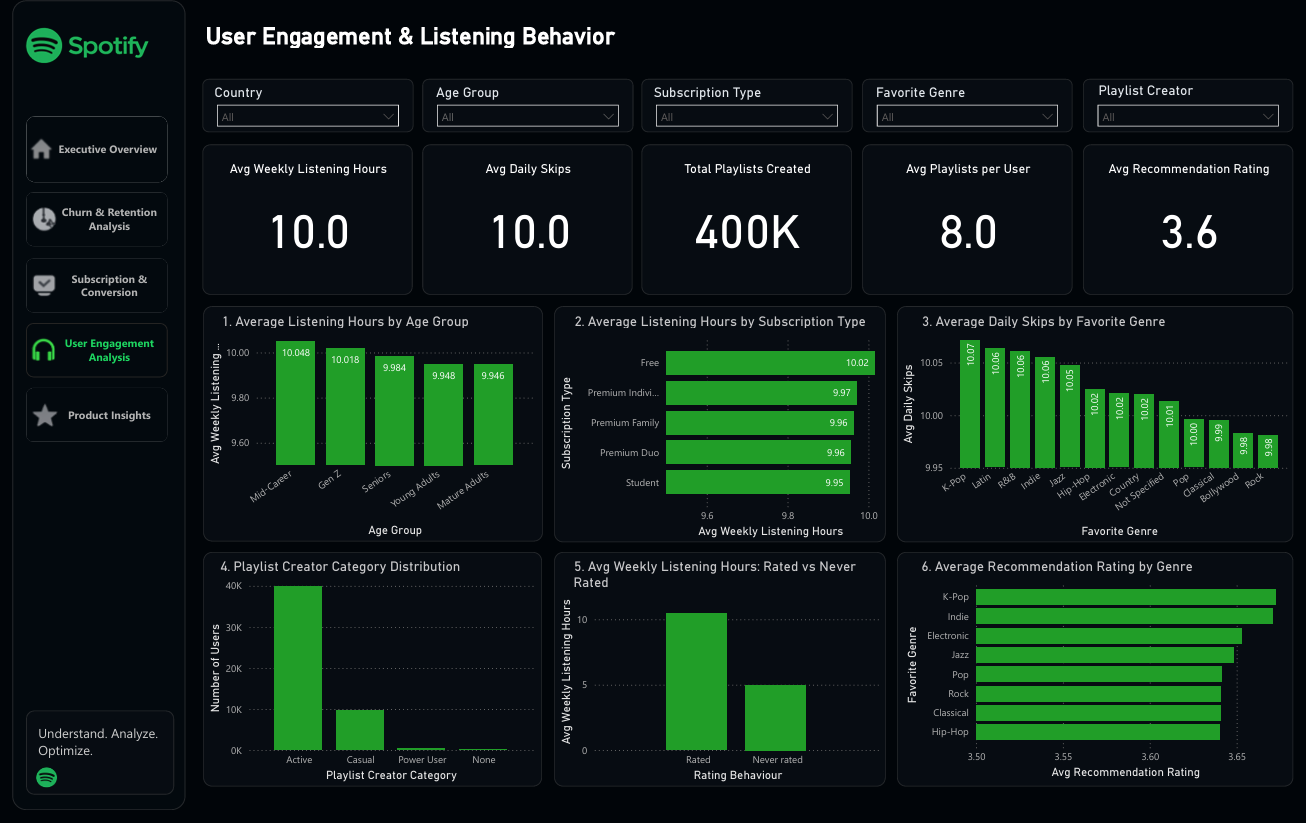

Layout of this report page (visuals, bound fields, positions):
{"tool":"powerbi","page":{"name":"User Engagement Analysis","canvas":[1620,1024],"ordinal":3},"visuals":[{"type":"card","title":"Avg Weekly Listening Hours","fields":{"Values":["Data.Avg Weekly Listening Hours"]},"box":[250.8,178.5,260,185.4],"z":0},{"type":"card","title":"Avg Daily Skips","fields":{"Values":["Avg(Data.avg_skips_per_day)"]},"box":[523.1,178.5,260,185.4],"z":1000},{"type":"card","title":"Total Playlists Created","fields":{"Values":["Sum(Data.playlists_created)"]},"box":[793.8,178.5,260,185.4],"z":2000},{"type":"card","title":"Avg Playlists per User","fields":{"Values":["Data.Avg Playlists per User"]},"box":[1066.9,178.5,260,185.4],"z":3000},{"type":"card","title":"Avg Recommendation Rating","fields":{"Values":["Avg(Data.music_suggestion_rating_1_to_5)"]},"box":[1340,178.5,260,185.4],"z":4000},{"type":"slicer","title":" ","fields":{"Values":["Data.Playlist Creator Category"]},"box":[1340,96.5,260,66.1],"z":5000},{"type":"clusteredColumnChart","title":" ","fields":{"Category":["Data.Age Group"],"Y":["Data.Avg Weekly Listening Hours"]},"box":[251.7,377.5,420,291.7],"z":6000},{"type":"clusteredColumnChart","title":" ","fields":{"Category":["Data.Playlist Creator Category"],"Y":["Data.Total Users"]},"box":[251.8,681.8,419.4,290.6],"z":7000},{"type":"clusteredBarChart","title":" ","fields":{"Y":["Data.Avg Weekly Listening Hours"],"Category":["Data.subscription_type"]},"box":[686,378,410,292],"z":8000},{"type":"slicer","title":" ","fields":{"Values":["Data.country"]},"box":[250.9,96.7,260.9,66.1],"z":9000},{"type":"slicer","title":" ","fields":{"Values":["Data.Age Group"]},"box":[523,96.7,260.9,66.1],"z":10000},{"type":"slicer","title":" ","fields":{"Values":["Data.subscription_type"]},"box":[793.9,96.7,260.9,66.1],"z":11000},{"type":"slicer","title":" ","fields":{"Values":["Data.favorite_genre"]},"box":[1067,96.7,260,66.1],"z":12000},{"type":"clusteredColumnChart","title":" ","fields":{"Y":["Avg(Data.avg_skips_per_day)"],"Category":["Data.favorite_genre"]},"box":[1110,378,490,292],"z":13000},{"type":"clusteredColumnChart","title":" ","fields":{"Category":["Data.Rating Given"],"Y":["Data.Avg Weekly Listening Hours"]},"box":[686,682,410,290],"z":14000},{"type":"clusteredBarChart","title":" ","fields":{"Y":["Avg(Data.music_suggestion_rating_1_to_5)"],"Category":["Data.favorite_genre"]},"box":[1110,682,490,290],"z":15000},{"type":"shape","box":[15.7,0,214.3,1001.4],"z":16000},{"type":"textbox","title":"Country","box":[261.4,102.9,90,25.7],"z":17000},{"type":"textbox","title":"Age Group","box":[535,102.9,110,22.9],"z":18000},{"type":"textbox","title":"Subscription Type","box":[804.3,104.3,180,24.3],"z":19000},{"type":"textbox","title":"Favorite Genre","box":[1078.6,102.9,180,25.7],"z":20000},{"type":"textbox","title":"Playlist Creator","box":[1354.3,101.3,133,25.7],"z":21000},{"type":"shape","box":[33,878,183,104],"z":22000},{"type":"textbox","box":[42.5,889.5,165.5,57],"z":23000},{"type":"textbox","title":"User Engagement & Listening Behavior","box":[251,27,559,31],"z":24000},{"type":"actionButton","box":[32.9,142.9,175,82.5],"z":25000},{"type":"actionButton","box":[32.9,236.7,175,67.5],"z":26000},{"type":"actionButton","box":[32.9,318.8,175,67.1],"z":27000},{"type":"actionButton","box":[32.9,398.8,175,67.5],"z":28000},{"type":"actionButton","box":[32.9,478.8,175,67.5],"z":29000},{"type":"image","box":[0,0,225.7,121.4],"z":30000},{"type":"textbox","title":"1. Average Listening Hours by Age Group","box":[270,386.2,351.5,25.4],"z":31000},{"type":"card","fields":{"Values":["Data.Avg Weekly Listening Hours"]},"box":[252.3,245.4,260,65.4],"z":32000},{"type":"card","fields":{"Values":["Avg(Data.avg_skips_per_day)"]},"box":[524.6,245.4,260,65.4],"z":33000},{"type":"card","fields":{"Values":["Sum(Data.playlists_created)"]},"box":[795.4,245.4,260,65.4],"z":34000},{"type":"card","fields":{"Values":["Data.Avg Playlists per User"]},"box":[1068.5,245.4,260,65.4],"z":35000},{"type":"card","fields":{"Values":["Avg(Data.music_suggestion_rating_1_to_5)"]},"box":[1341.5,245.4,260,65.4],"z":36000},{"type":"textbox","title":"2. Average Listening Hours by Subscription Type","box":[706.2,386.2,383.8,25.4],"z":37000},{"type":"textbox","title":"3. Average Daily Skips by Favorite Genre","box":[1136.2,386.2,351.5,25.4],"z":38000},{"type":"textbox","title":"4. Playlist Creator Category Distribution","box":[267.5,690,387.5,25],"z":39000},{"type":"textbox","title":"5. Avg Weekly Listening Hours: Rated vs Never Rated","box":[704.5,690,385.5,41.8],"z":40000},{"type":"textbox","title":"6. Average Recommendation Rating by Genre","box":[1134.6,690,373.1,25.4],"z":41000},{"type":"image","box":[42.7,947.3,30,27.3],"z":42000}]}

Visuals, with their boxes on the page's 1620x1024 design canvas (x1, y1, x2, y2). These are canvas units, not pixel positions in the 1306x823 screenshot, which may show the page scaled, cropped or inside an application window:
"Avg Weekly Listening Hours" card: locate(251, 178, 511, 364)
"Avg Daily Skips" card: locate(523, 178, 783, 364)
"Total Playlists Created" card: locate(794, 178, 1054, 364)
"Avg Playlists per User" card: locate(1067, 178, 1327, 364)
"Avg Recommendation Rating" card: locate(1340, 178, 1600, 364)
" " slicer: locate(1340, 96, 1600, 163)
" " clusteredColumnChart: locate(252, 378, 672, 669)
" " clusteredColumnChart: locate(252, 682, 671, 972)
" " clusteredBarChart: locate(686, 378, 1096, 670)
" " slicer: locate(251, 97, 512, 163)
" " slicer: locate(523, 97, 784, 163)
" " slicer: locate(794, 97, 1055, 163)
" " slicer: locate(1067, 97, 1327, 163)
" " clusteredColumnChart: locate(1110, 378, 1600, 670)
" " clusteredColumnChart: locate(686, 682, 1096, 972)
" " clusteredBarChart: locate(1110, 682, 1600, 972)
shape: locate(16, 0, 230, 1001)
"Country" textbox: locate(261, 103, 351, 129)
"Age Group" textbox: locate(535, 103, 645, 126)
"Subscription Type" textbox: locate(804, 104, 984, 129)
"Favorite Genre" textbox: locate(1079, 103, 1259, 129)
"Playlist Creator" textbox: locate(1354, 101, 1487, 127)
shape: locate(33, 878, 216, 982)
textbox: locate(42, 890, 208, 946)
"User Engagement & Listening Behavior" textbox: locate(251, 27, 810, 58)
actionButton: locate(33, 143, 208, 225)
actionButton: locate(33, 237, 208, 304)
actionButton: locate(33, 319, 208, 386)
actionButton: locate(33, 399, 208, 466)
actionButton: locate(33, 479, 208, 546)
image: locate(0, 0, 226, 121)
"1. Average Listening Hours by Age Group" textbox: locate(270, 386, 622, 412)
card - Data.Avg Weekly Listening Hours: locate(252, 245, 512, 311)
card - Avg(Data.avg_skips_per_day): locate(525, 245, 785, 311)
card - Sum(Data.playlists_created): locate(795, 245, 1055, 311)
card - Data.Avg Playlists per User: locate(1068, 245, 1328, 311)
card - Avg(Data.music_suggestion_rating_1_to_5): locate(1342, 245, 1602, 311)
"2. Average Listening Hours by Subscription Type" textbox: locate(706, 386, 1090, 412)
"3. Average Daily Skips by Favorite Genre" textbox: locate(1136, 386, 1488, 412)
"4. Playlist Creator Category Distribution" textbox: locate(268, 690, 655, 715)
"5. Avg Weekly Listening Hours: Rated vs Never Rated" textbox: locate(704, 690, 1090, 732)
"6. Average Recommendation Rating by Genre" textbox: locate(1135, 690, 1508, 715)
image: locate(43, 947, 73, 975)
